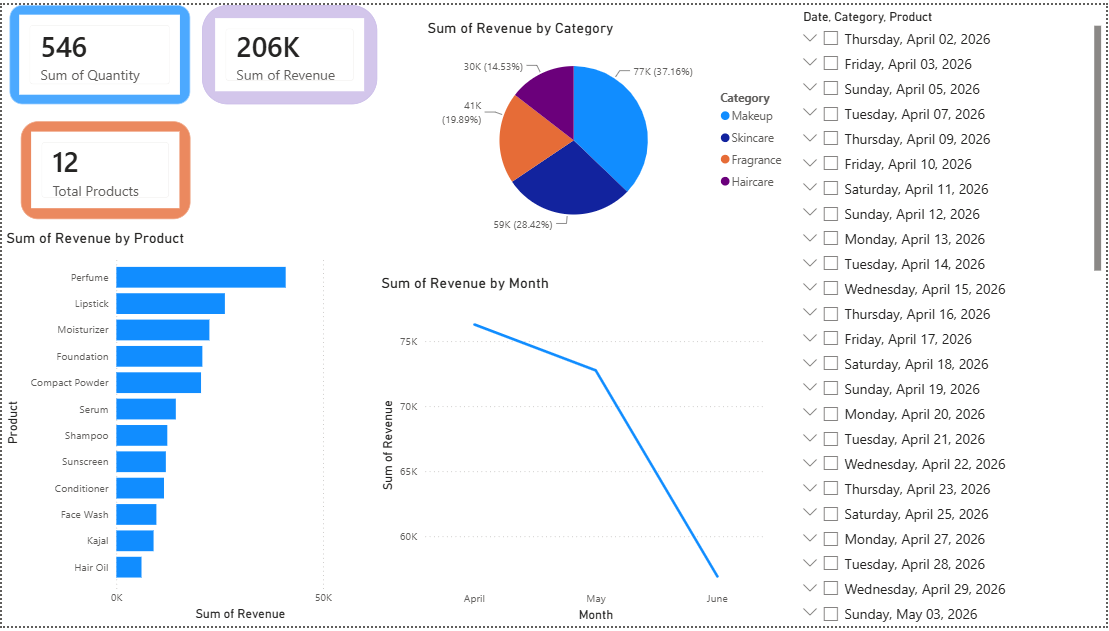

This screenshot's page, from the dashboard's own definition file:
{"tool":"powerbi","page":{"name":"Page 1","canvas":[1280,720],"ordinal":0},"visuals":[{"type":"cardVisual","fields":{"Data":["Sum(Cosmetics Sales.Revenue)"]},"box":[232.3,0,203.1,115.4],"z":0},{"type":"cardVisual","fields":{"Data":["Sum(Cosmetics Sales.Quantity)"]},"box":[9.2,0,209.2,115.4],"z":1000},{"type":"cardVisual","fields":{"Data":["Cosmetics Sales.Total Products"]},"box":[21.5,135.4,196.9,113.8],"z":2000},{"type":"lineChart","fields":{"Category":["Cosmetics Sales.Date.Variation.Date Hierarchy.Year","Cosmetics Sales.Date.Variation.Date Hierarchy.Quarter","Cosmetics Sales.Date.Variation.Date Hierarchy.Month","Cosmetics Sales.Date.Variation.Date Hierarchy.Day"],"Y":["Sum(Cosmetics Sales.Revenue)"]},"box":[435,311.2,456.2,408.8],"z":3000},{"type":"clusteredBarChart","fields":{"Category":["Cosmetics Sales.Product"],"Y":["Sum(Cosmetics Sales.Revenue)"]},"box":[0,260,435.4,460],"z":4000},{"type":"pieChart","fields":{"Category":["Cosmetics Sales.Category"],"Y":["Sum(Cosmetics Sales.Revenue)"]},"box":[487.7,15.4,429.2,263.1],"z":5000},{"type":"slicer","fields":{"Values":["Cosmetics Sales.Date","Cosmetics Sales.Category","Cosmetics Sales.Product"]},"box":[916.2,0,363.8,720],"z":6000}]}

Visuals, with their boxes in screenshot pixels (x1, y1, x2, y2), scaled from the page's 1280x720 canvas onto the 1109x631 screenshot:
cardVisual - Sum(Cosmetics Sales.Revenue): box=[201, 0, 377, 101]
cardVisual - Sum(Cosmetics Sales.Quantity): box=[8, 0, 189, 101]
cardVisual - Cosmetics Sales.Total Products: box=[19, 119, 189, 218]
lineChart - Cosmetics Sales.Date.Variation.Date Hierarchy.Year x Cosmetics Sales.Date.Variation.Date Hierarchy.Quarter: box=[377, 273, 772, 630]
clusteredBarChart - Cosmetics Sales.Product x Sum(Cosmetics Sales.Revenue): box=[0, 228, 377, 630]
pieChart - Cosmetics Sales.Category x Sum(Cosmetics Sales.Revenue): box=[423, 13, 794, 244]
slicer - Cosmetics Sales.Date x Cosmetics Sales.Category: box=[794, 0, 1108, 630]
